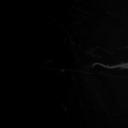fish: (91, 61, 128, 70)
